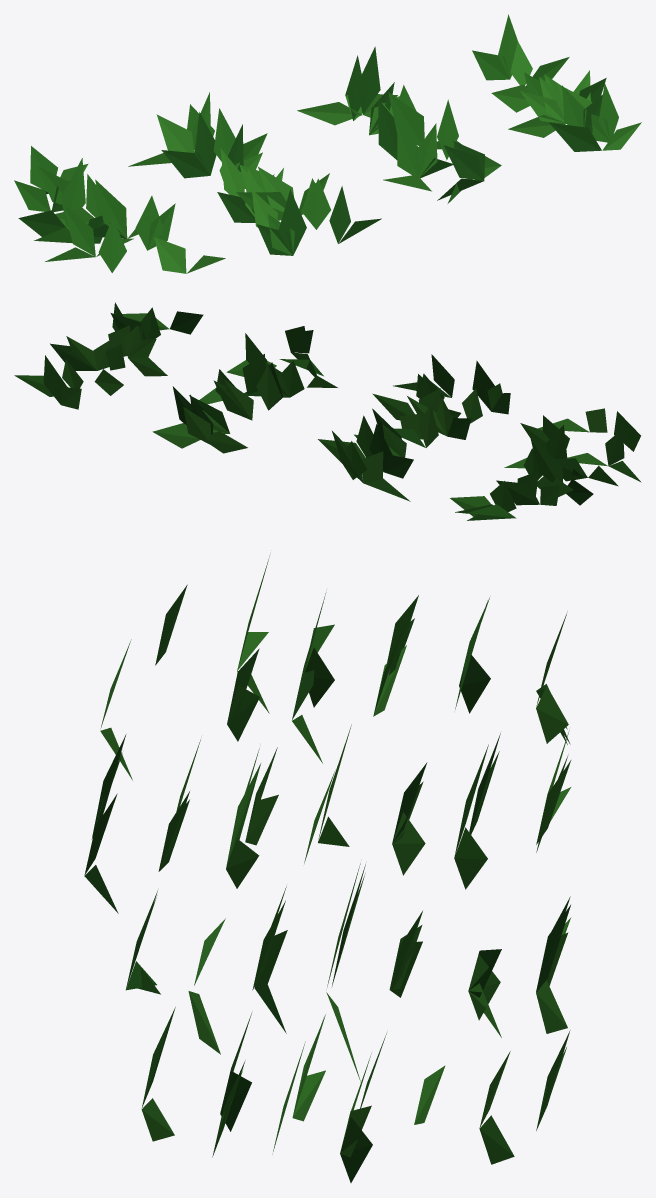
3 views of the same model, one above another, from view 1: azimuth 30°, elevation 25°; view 2: azimuth 150°, elevation 25°; view 3: azimuth 270°, elevation 25° (orthographic). The views are drawn at different scales.
Visible parts, largest first — view 1: r11c3_l00; view 2: r11c3_l00; view 3: r11c3_l00.
Boxes of the visible parts, left/top/right/bottom form: r11c3_l00: left=14, top=14, right=641, bottom=273; r11c3_l00: left=14, top=302, right=641, bottom=520; r11c3_l00: left=84, top=554, right=571, bottom=1182.
Bounding box in the file's own units: 1.75 × 0.2215 × 0.65.
